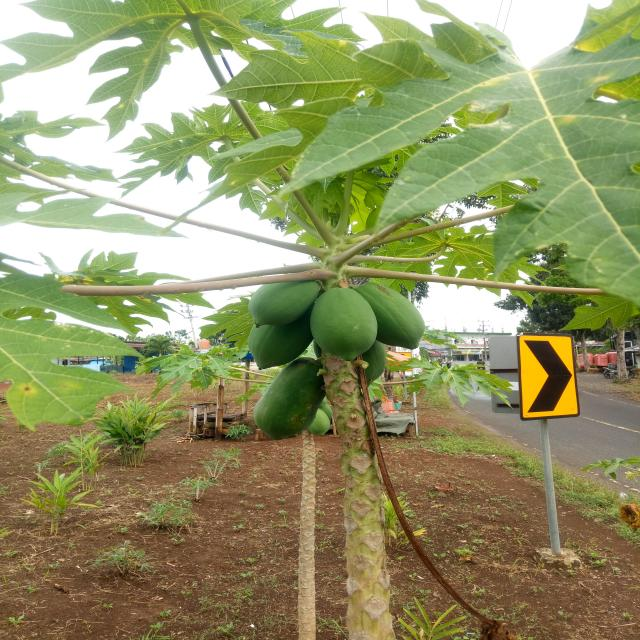Pepaya unrippen: (259, 365, 331, 439), (366, 282, 430, 351), (315, 291, 376, 363), (243, 280, 324, 328), (242, 332, 312, 362)
